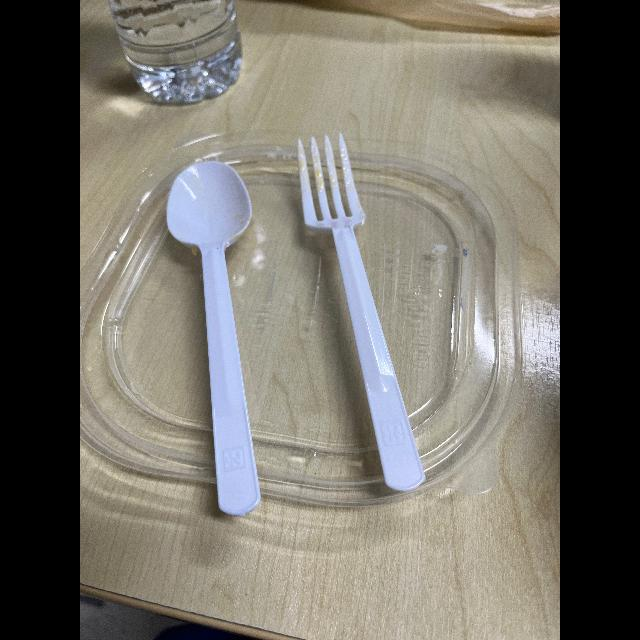plastic_cultery: (284, 128, 441, 494), (168, 143, 286, 523)
